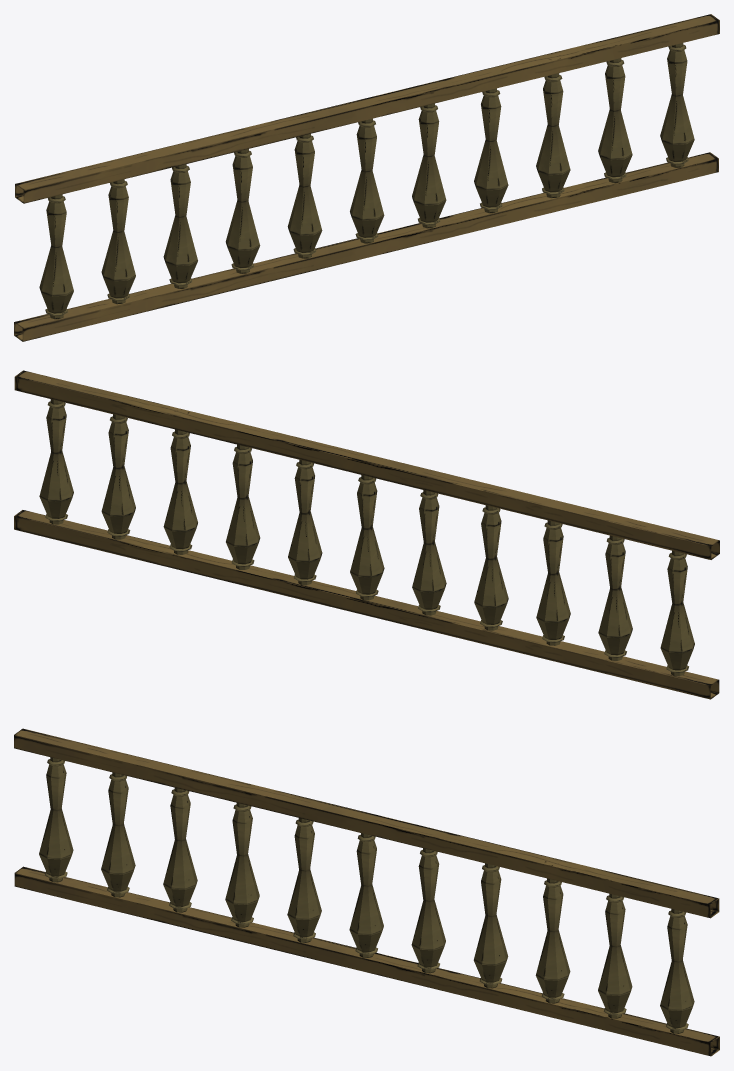
The model's file is Reiling.fbx.
3 renders of one model, top to bottom at view 1: azimuth 30°, elevation 25°; view 2: azimuth 150°, elevation 25°; view 3: azimuth 330°, elevation 25°, orthographic.
Parts seen in each view (by area): view 1: Reiling; view 2: Reiling; view 3: Reiling.
Boxes of the visible parts, x1,y1,x2,y2 form: Reiling: (14, 14, 719, 341); Reiling: (14, 370, 719, 699); Reiling: (14, 728, 719, 1056).
Size of the model in its own units: 676 by 141 by 30.14.
Materials: 1 (1 with a texture image).
